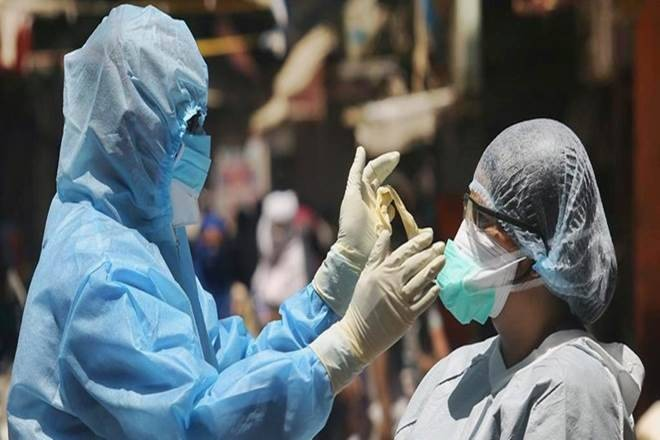Coverall: (7, 5, 333, 440)
Gloves: (295, 224, 446, 390), (297, 141, 413, 311)
with_mask: (434, 190, 530, 325), (166, 103, 215, 225)
